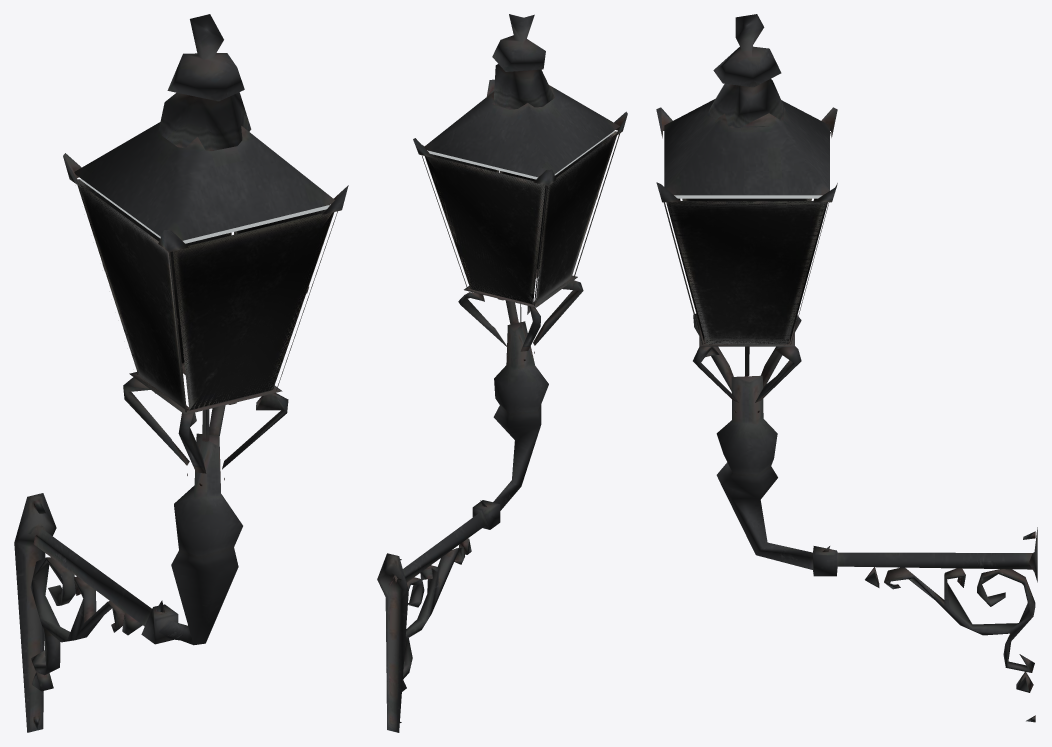
The model's file is street_lamp_02.glb.
The picture shows the model from 3 angles, left to right: view 1: azimuth 30°, elevation 25°; view 2: azimuth 150°, elevation 25°; view 3: azimuth 270°, elevation 25°; orthographic projection. The views are drawn at different scales.
Visible parts, largest first — view 1: street_lamp_02; view 2: street_lamp_02; view 3: street_lamp_02.
Part boxes in pixels (x1,y1,x2,y2): street_lamp_02: (14, 14, 348, 732); street_lamp_02: (377, 14, 627, 732); street_lamp_02: (656, 14, 1037, 722).
Bounding box in the file's own units: 0.3836 × 1.66 × 0.8053.
3 materials, 3 textured.
